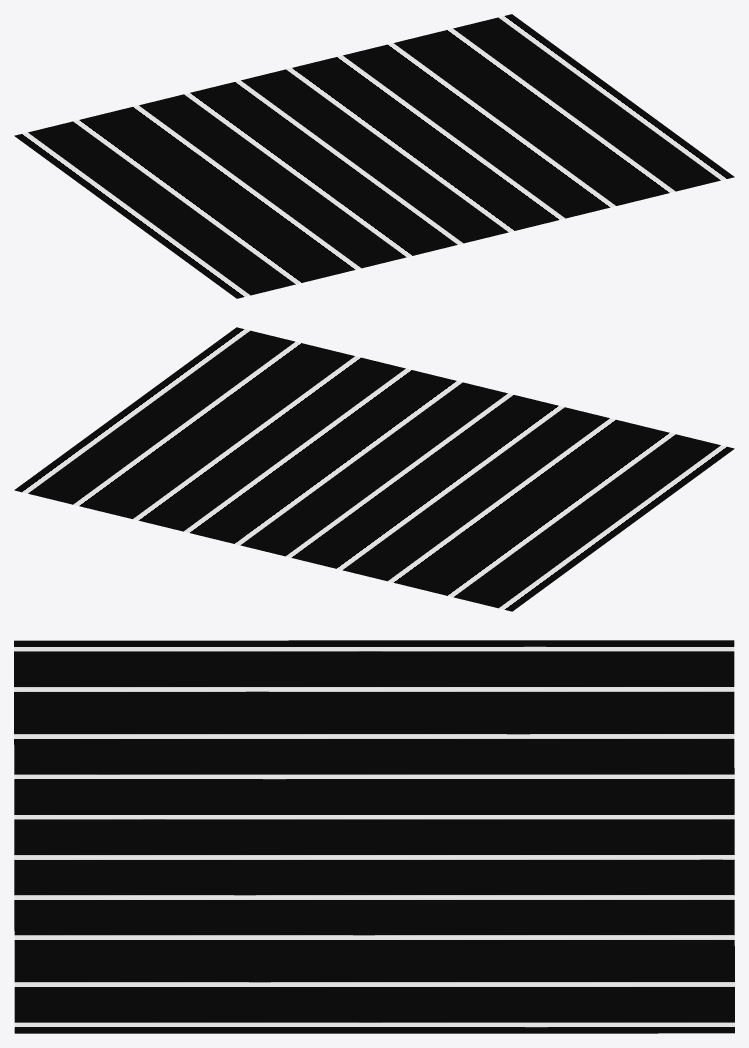
Rendered from outside_plane.fbx.
The picture shows the model from 3 angles, top to bottom: view 1: azimuth 30°, elevation 25°; view 2: azimuth 150°, elevation 25°; view 3: azimuth 270°, elevation 25°; orthographic projection. The views are drawn at different scales.
Visible parts, largest first — view 1: Plane__2_; view 2: Plane__2_; view 3: Plane__2_.
Boxes of the visible parts, <box> form: Plane__2_: <box>14,14,734,298</box>; Plane__2_: <box>14,327,734,611</box>; Plane__2_: <box>14,640,734,1033</box>.
Size of the model in its own units: 3117 by 0.000195 by 2416.
